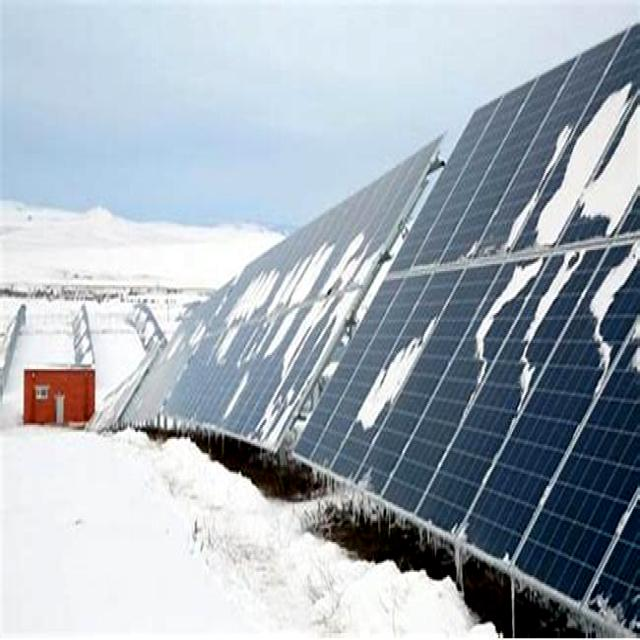panel: (490, 522, 640, 640), (344, 465, 472, 566), (362, 314, 434, 444), (467, 260, 541, 378), (534, 92, 584, 239), (212, 358, 284, 454), (601, 75, 640, 232), (476, 190, 552, 254), (272, 316, 321, 411), (572, 152, 619, 234), (331, 229, 382, 302), (587, 243, 640, 311), (224, 254, 268, 335), (518, 306, 548, 416), (161, 312, 211, 364), (280, 249, 330, 293), (548, 252, 590, 301), (588, 326, 620, 376), (631, 318, 640, 382)
